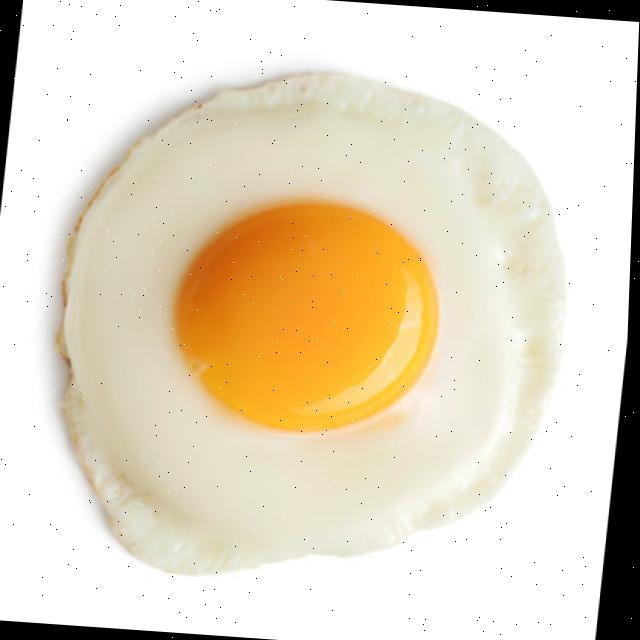Egg: (61, 76, 563, 574)
